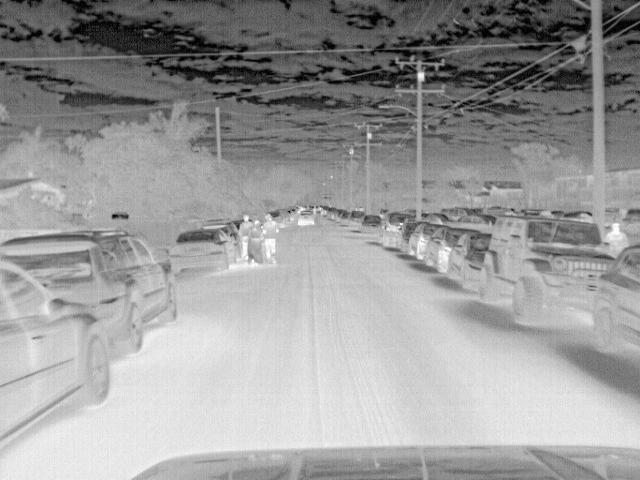car: (2, 234, 177, 358), (1, 262, 110, 453), (483, 210, 624, 329), (586, 256, 640, 364), (170, 226, 239, 273), (447, 232, 493, 294), (422, 227, 477, 276), (401, 223, 440, 261), (380, 211, 414, 250), (441, 206, 495, 225), (359, 213, 385, 235), (296, 208, 318, 229), (347, 210, 365, 230)
person: (601, 221, 629, 261), (259, 212, 279, 262), (234, 211, 253, 262), (249, 220, 267, 264)
